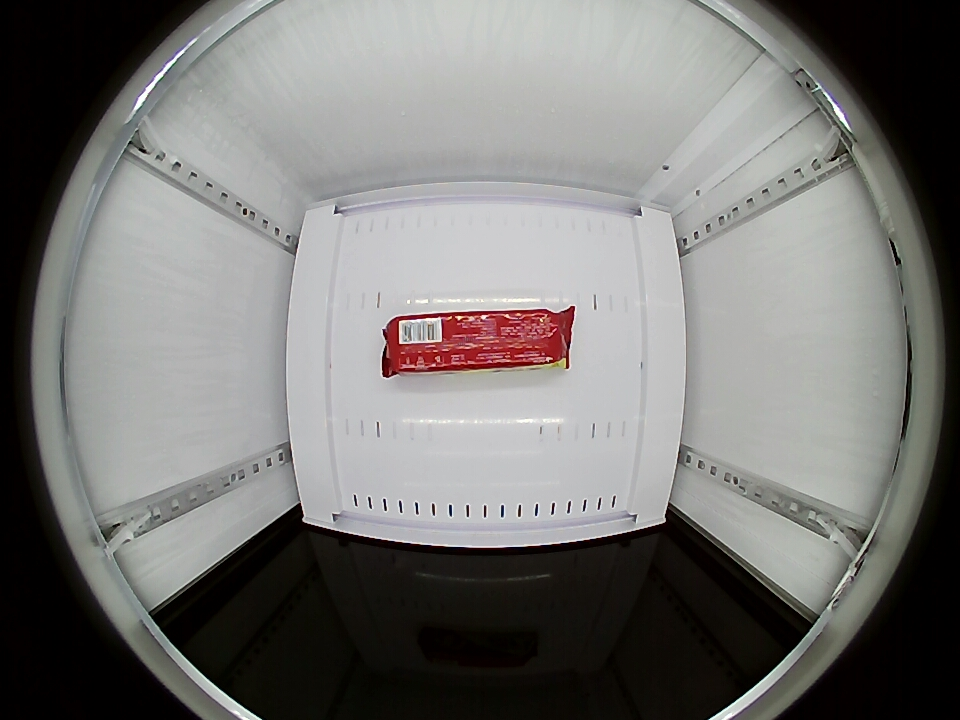3jia2: (383, 305, 572, 374)
